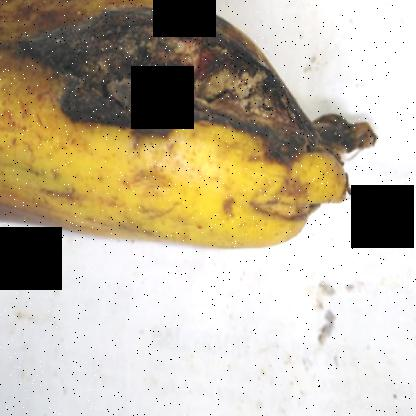ripe: (0, 125, 287, 276)
rotten: (0, 1, 360, 246)
